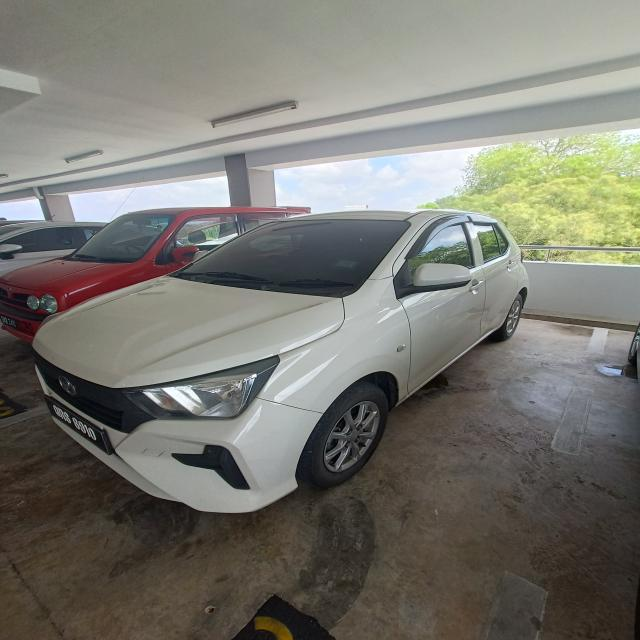PeroduaAxia: (31, 207, 530, 514)
